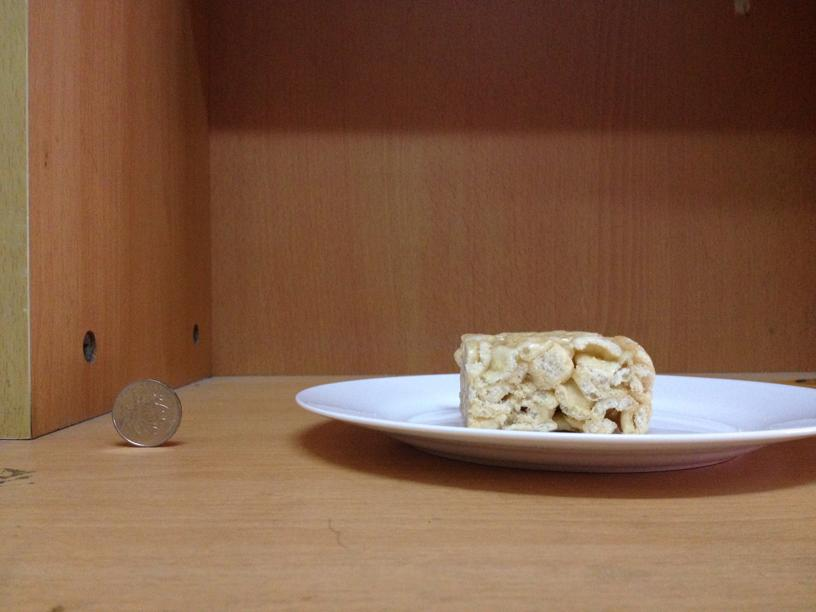coin: (112, 374, 178, 446)
sachima: (452, 327, 659, 436)
